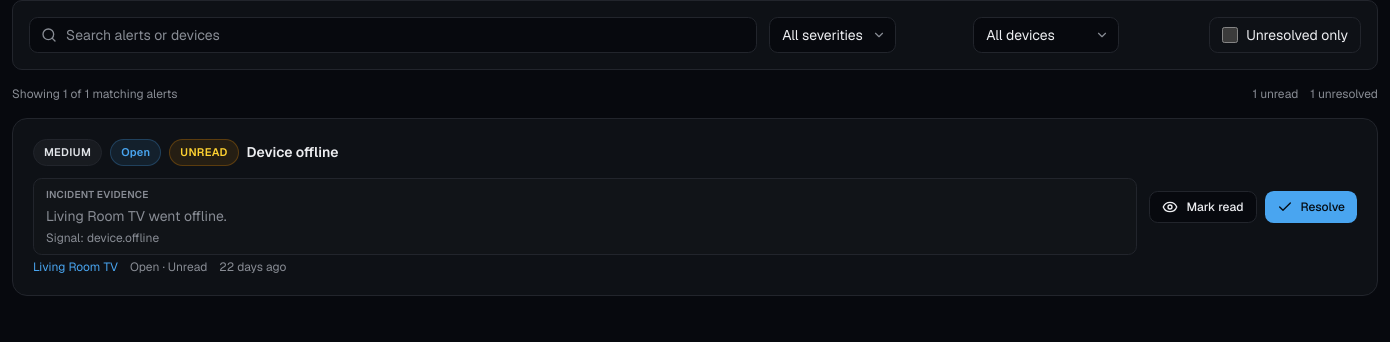
AlertList › updates an alert and reflects the resolved state
What coordinates should you click on to do the following:
click the button "Resolve"
I would click on:
 (1311, 207)
Its box is [1264,191,1357,223].
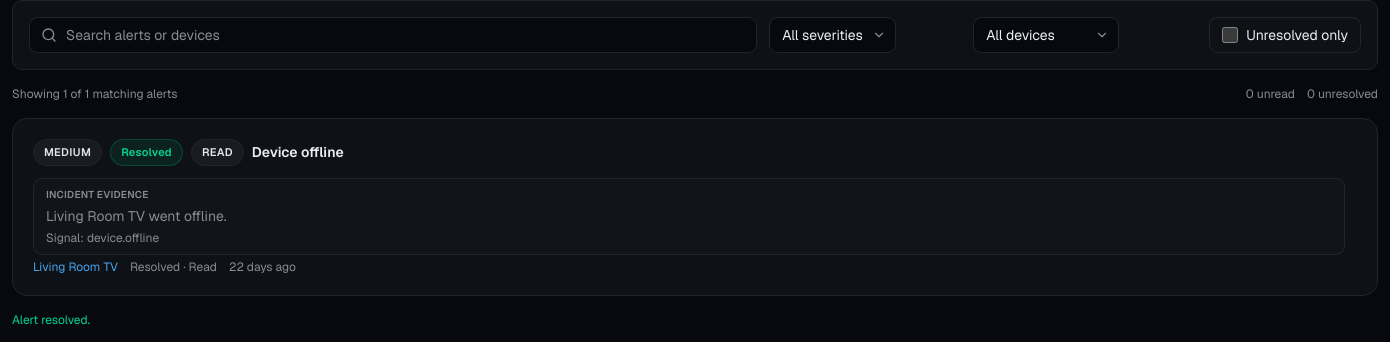
Expected: the text "Resolved" is shown, [110,139,183,166]
